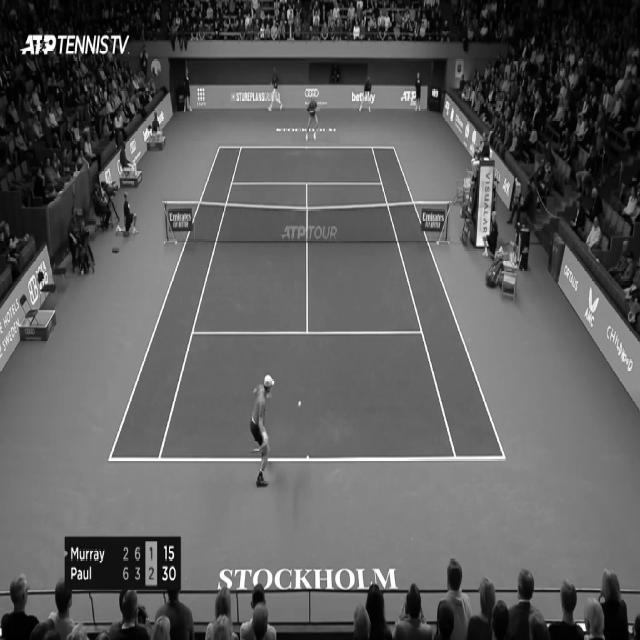tennis-court: (107, 146, 507, 461)
